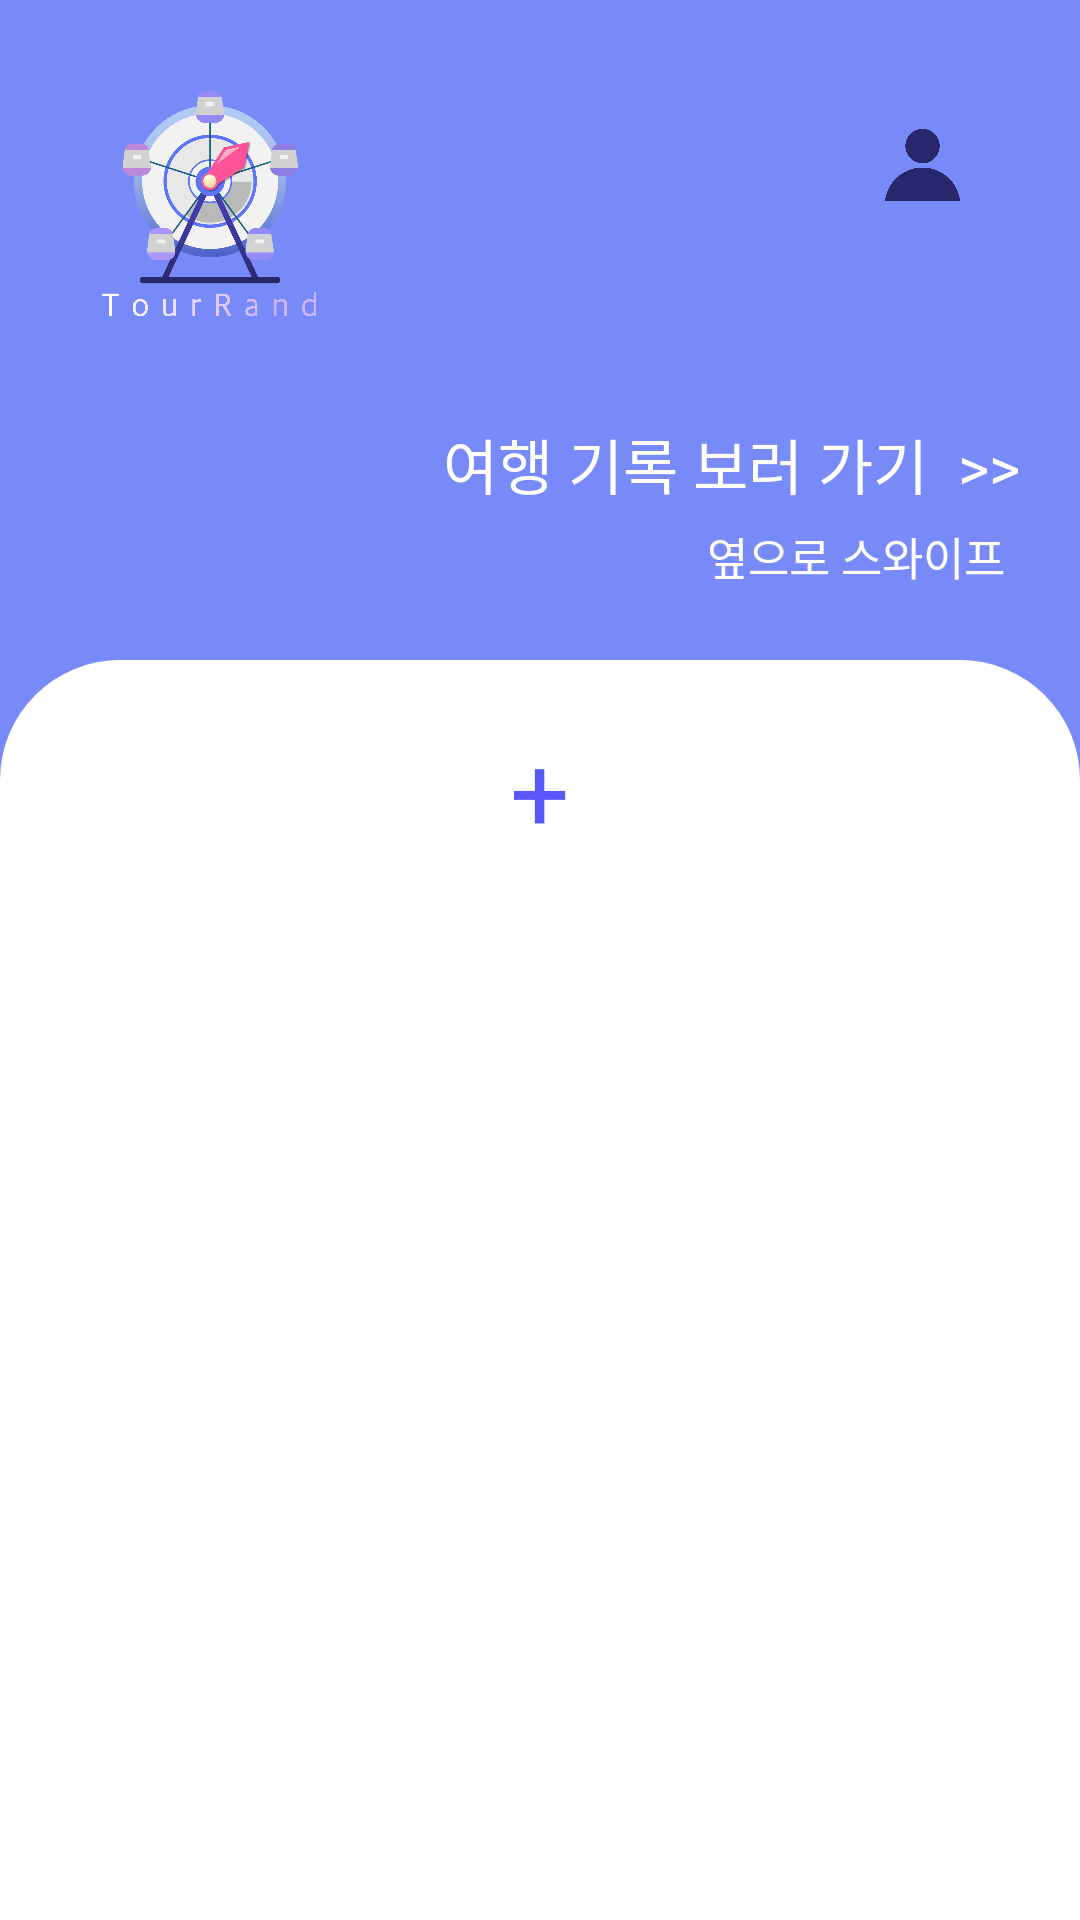

Icons on this 1080×1920 Android screen, each with the point to tap as (x=x, y=y):
mypage: (x=922, y=165)
